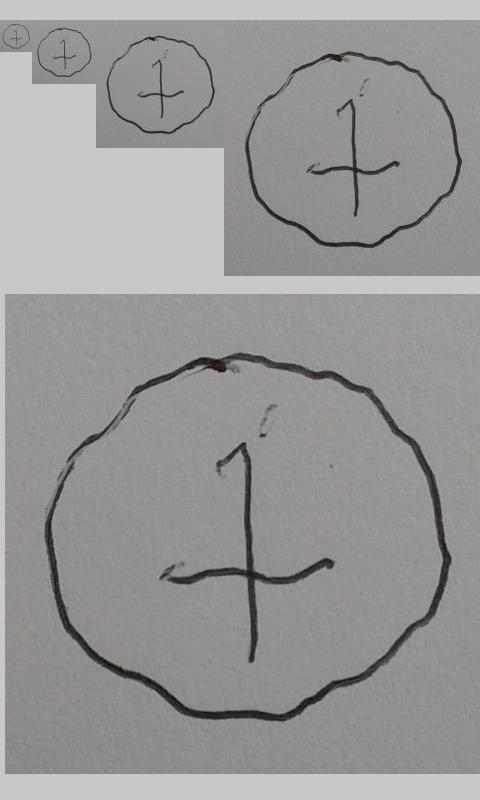button: (39, 350, 456, 723), (243, 50, 463, 248), (106, 34, 216, 135), (36, 27, 92, 78), (2, 23, 31, 49)
